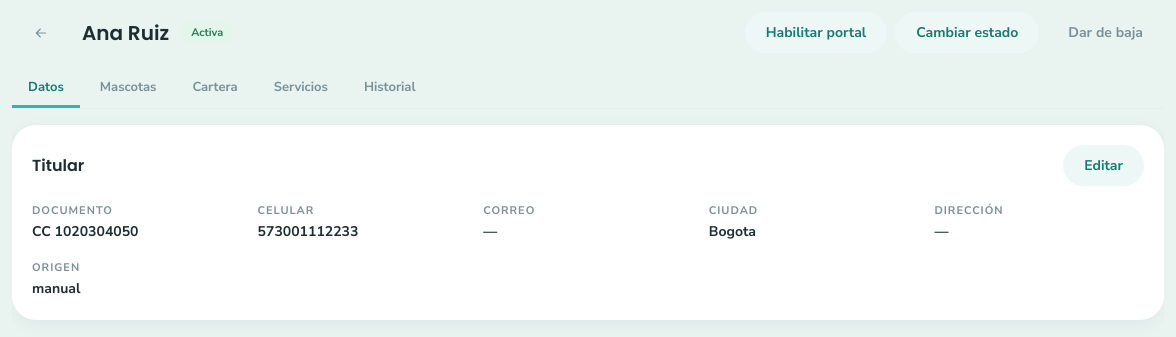
Test: FamiliaDetallePage › explica que no hay cartera cuando la familia no tiene contrato
Click the tab "Cartera": {"x": 215, "y": 89} [176,69,254,108]
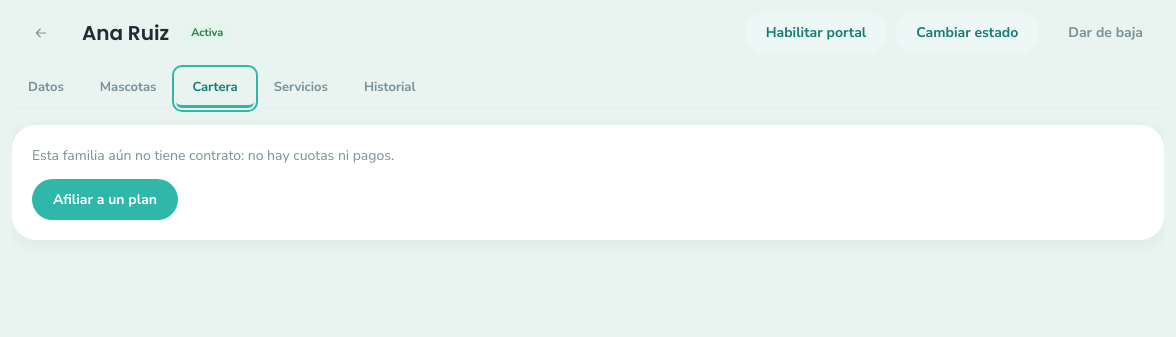
Check: the text "Esta familia aún no tiene contrato: no hay cuotas ni pagos." is shown, box [32,146,394,165]
